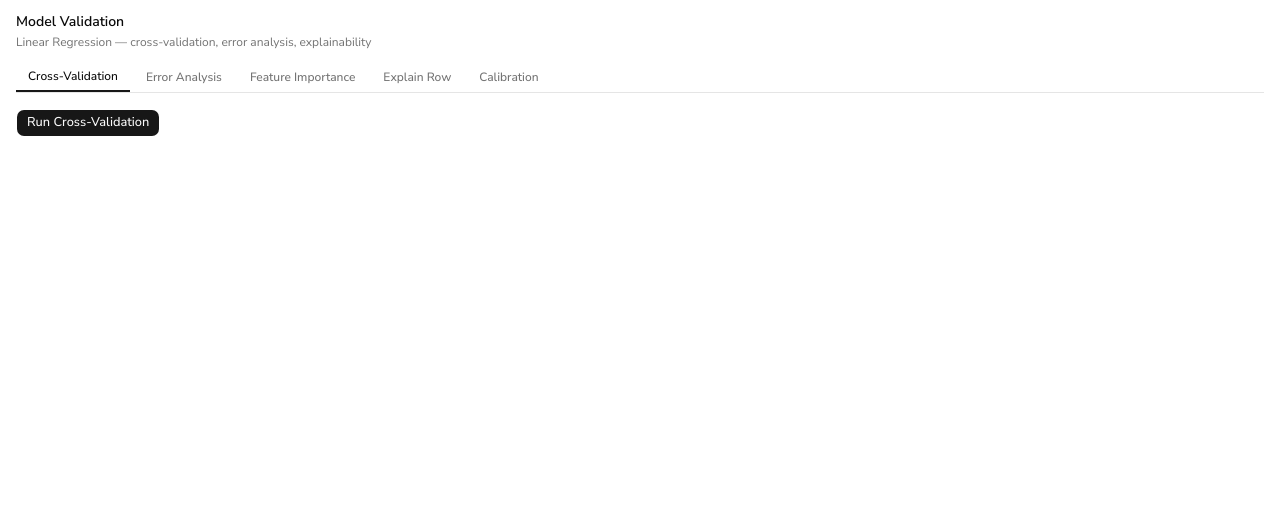
it: ValidationPanel — sub-tab navigation › shows cv summary text after loading metrics
What coordinates should you click on to do the following:
click the tab "Cross-Validation"
I would click on:
 (73, 77)
Its box is [16,62,130,92].
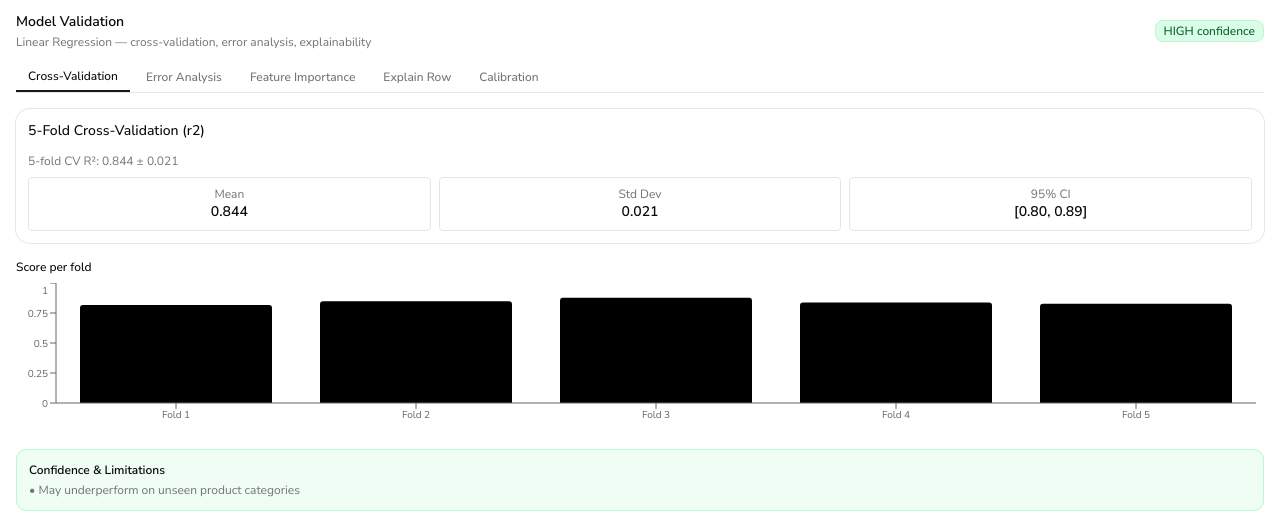
Expected: the text "5-fold CV R²: 0.844 ± 0.021" is shown, [28,153,178,169]
